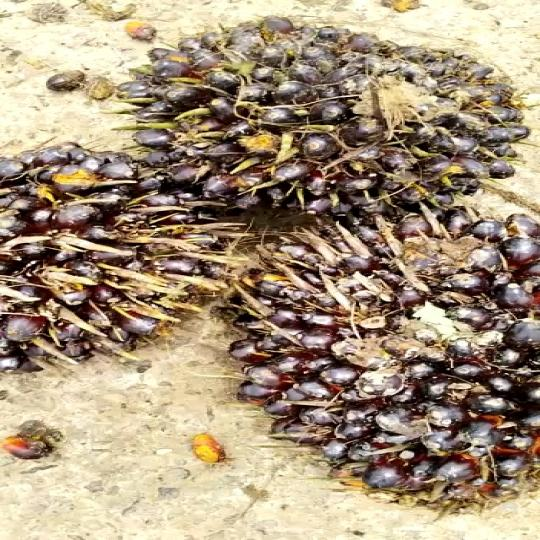mentah: (201, 196, 540, 514), (118, 13, 526, 210), (0, 140, 226, 376)
